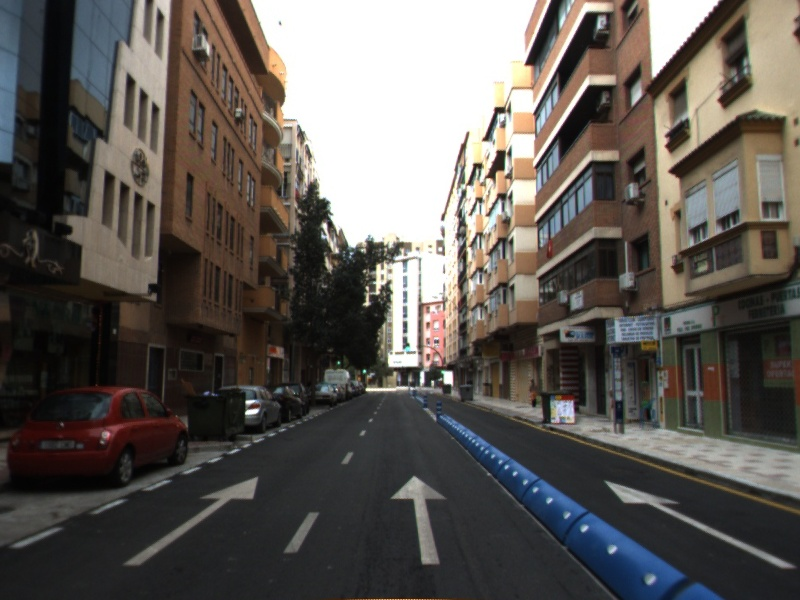STRAIGHT: (602, 478, 798, 570), (122, 475, 259, 567), (389, 474, 449, 566)
